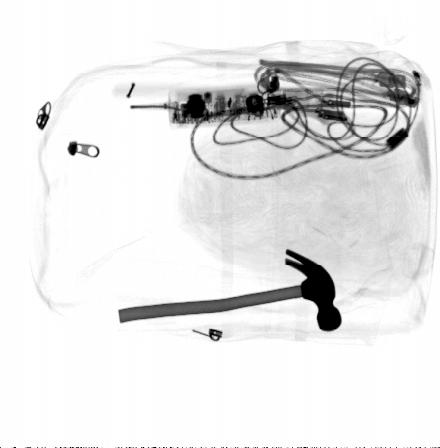Hammer: (119, 247, 342, 331)
